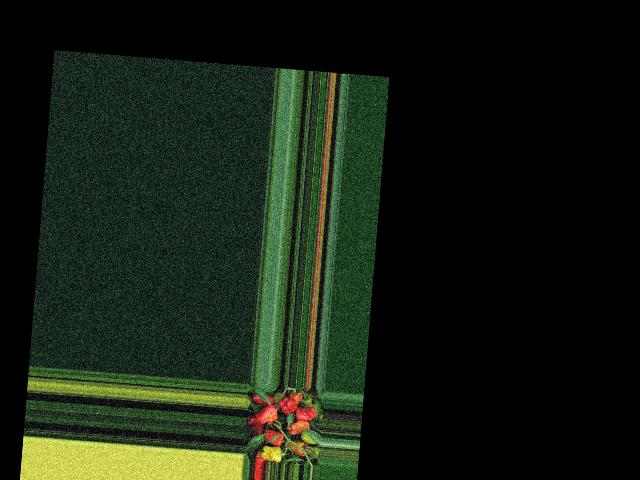bell_pepper: (291, 389, 302, 403)
